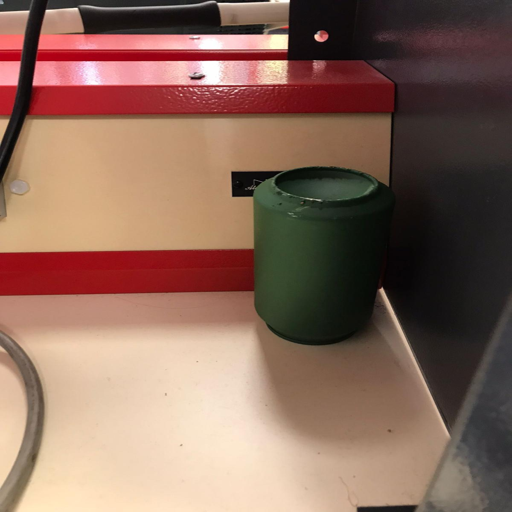Green_Can: (252, 163, 391, 346)
